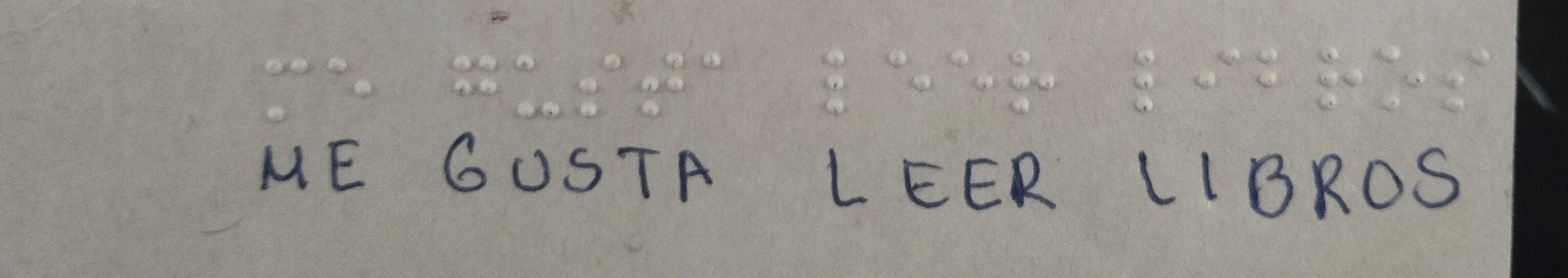a: (689, 48, 744, 79)
b: (1249, 38, 1290, 99)
e: (323, 46, 378, 113), (885, 44, 939, 99), (946, 43, 994, 99), (820, 46, 855, 121)
g: (448, 50, 503, 99)
i: (1177, 39, 1249, 109)
l: (1124, 39, 1170, 128)
m: (255, 46, 317, 132)
o: (1370, 36, 1430, 123)
r: (1300, 39, 1369, 116), (999, 39, 1059, 120)
s: (1430, 32, 1495, 123), (568, 50, 628, 123)
t: (630, 48, 691, 123)
u: (515, 50, 565, 123)
